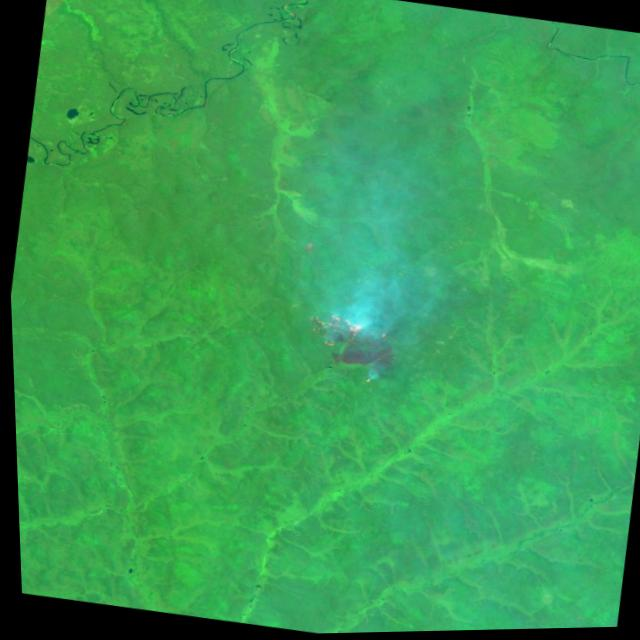fire: (292, 307, 398, 386)
